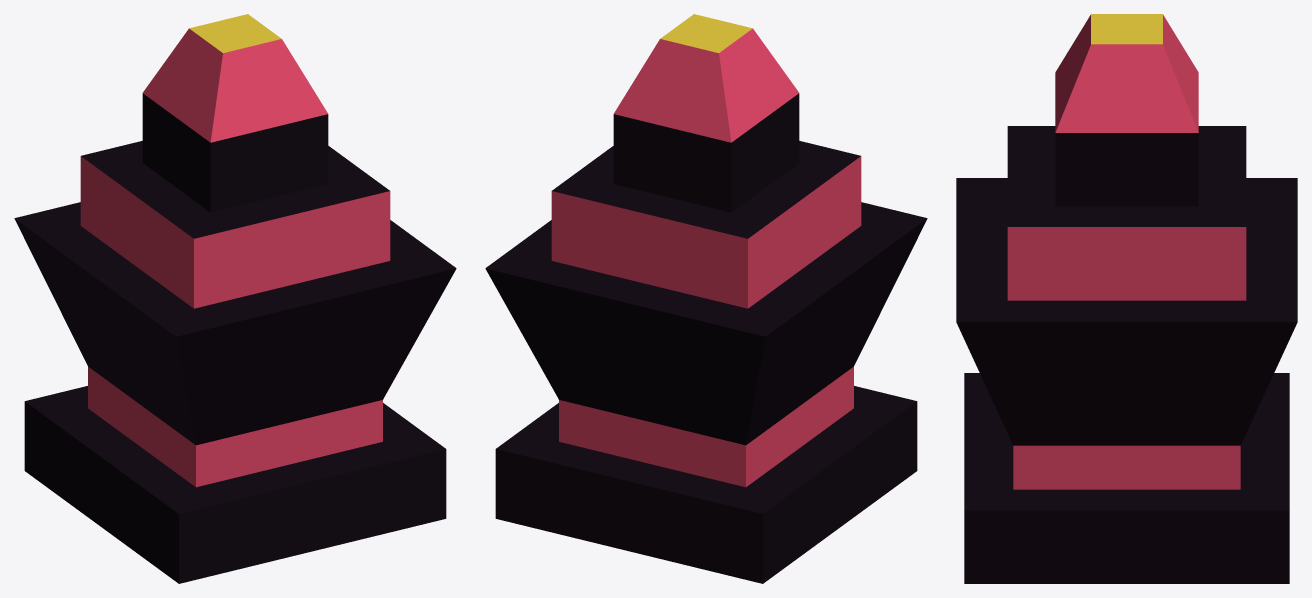
The model's file is Pedestal.fbx.
3 views of the same model, side by side, from view 1: azimuth 30°, elevation 25°; view 2: azimuth 150°, elevation 25°; view 3: azimuth 270°, elevation 25° (orthographic). The views are drawn at different scales.
Visible parts, largest first — view 1: Pedestal; view 2: Pedestal; view 3: Pedestal.
Boxes of the visible parts, <box> form: Pedestal: <box>14,14,456,583</box>; Pedestal: <box>485,14,927,583</box>; Pedestal: <box>956,14,1297,583</box>.
Size of the model in its own units: 210 by 330 by 210.
